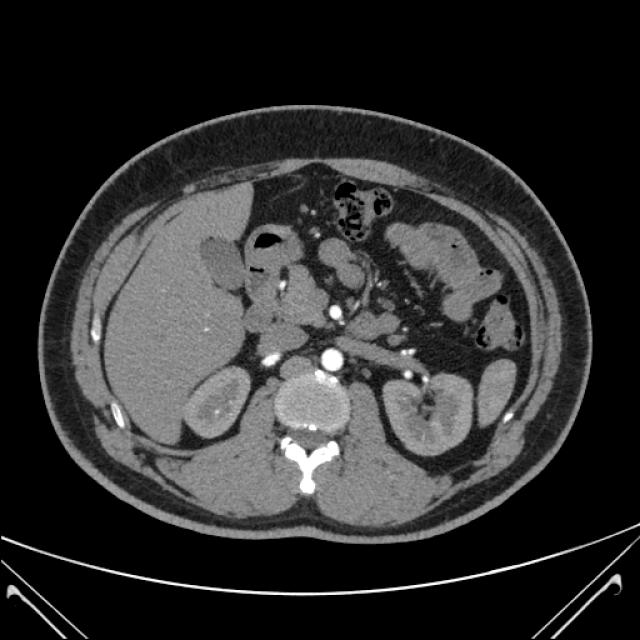Kidney: (0, 0, 576, 523)
